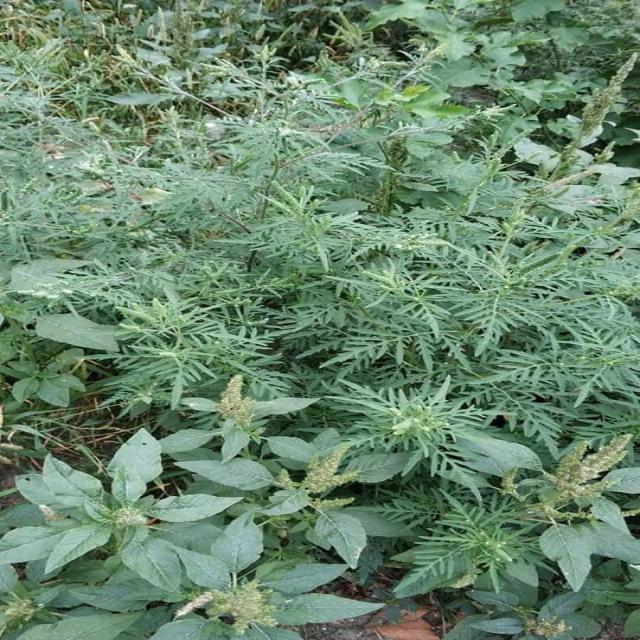ambrosia: (242, 180, 640, 358), (36, 288, 288, 402), (317, 369, 486, 463)
